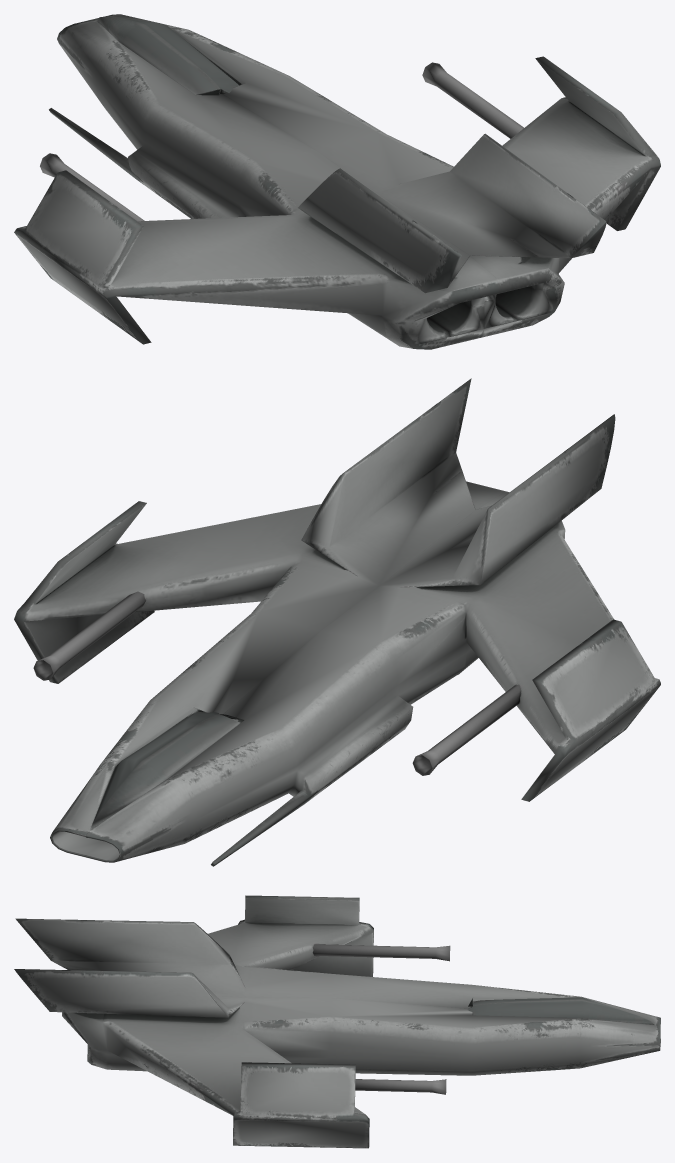
The model's file is spaceship.fbx.
3 views of the same model, one above another, from view 1: azimuth 30°, elevation 25°; view 2: azimuth 150°, elevation 25°; view 3: azimuth 270°, elevation 25° (orthographic). The views are drawn at different scales.
Parts seen in each view (by area): view 1: player_Cube; view 2: player_Cube; view 3: player_Cube.
Boxes of the visible parts, box(x1,y1,x2,y2) form: player_Cube: box(14, 14, 660, 349); player_Cube: box(14, 378, 660, 866); player_Cube: box(14, 895, 660, 1148).
Size of the model in its own units: 1071 by 317 by 1507.
1 material, 1 textured.
